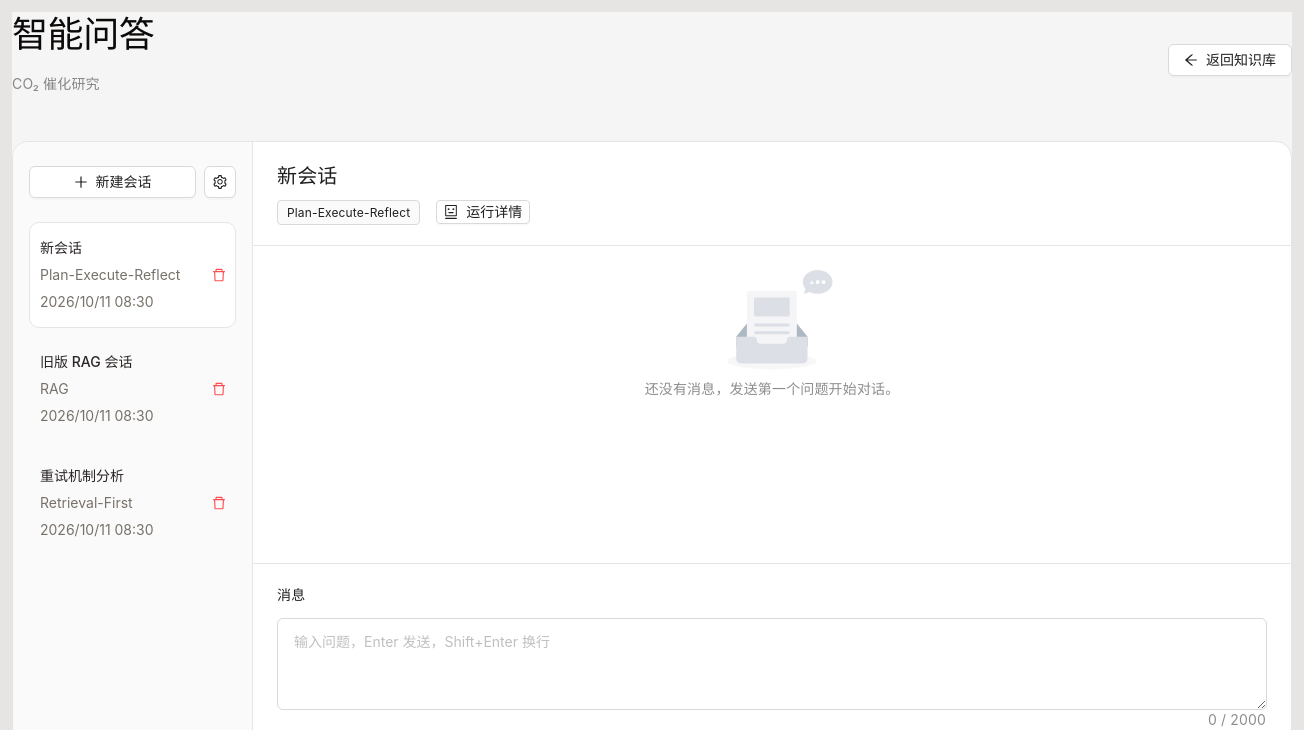
Test: ChatPage (MSW integration tests) › honors an initial CANCELLED execution response instead of assuming it is PENDING
Type "问题" into the text box labelled "消息" at (772, 664), box top-left (278, 619), bottom-right (1266, 709)
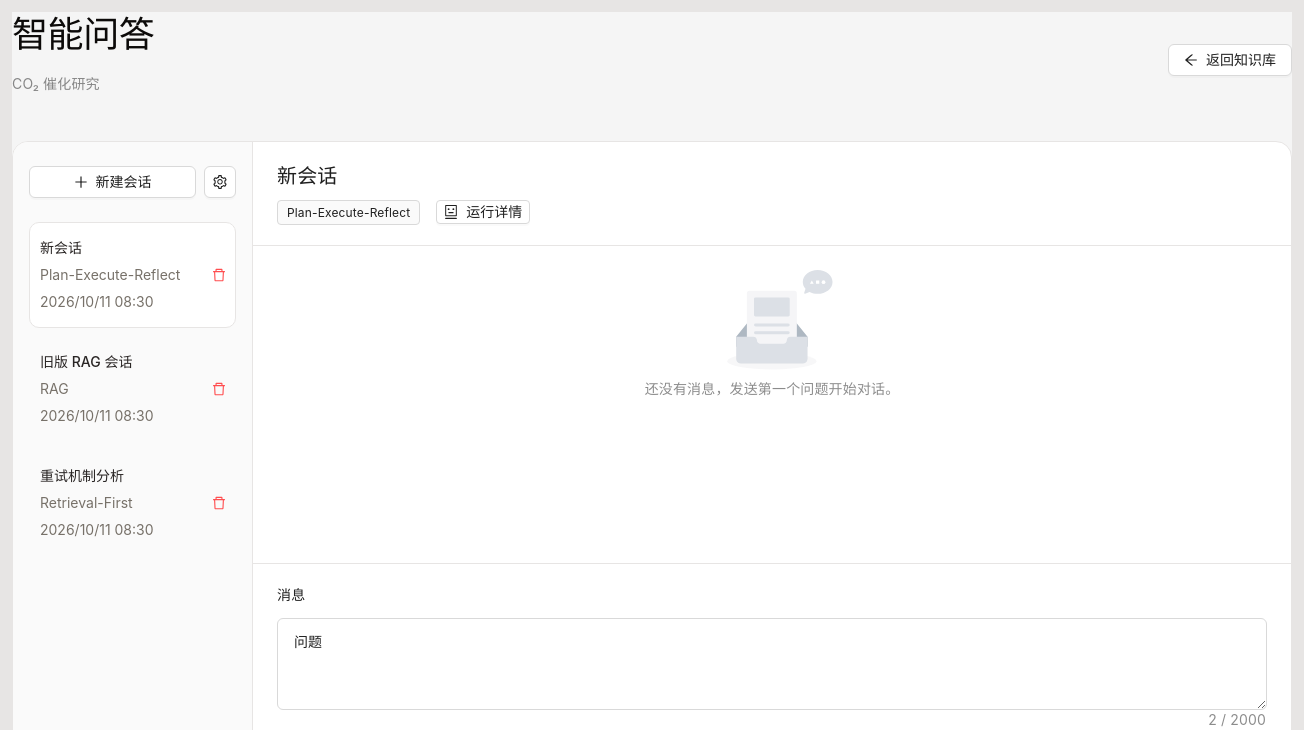
Press Enter in the text box labelled "消息", box top-left (278, 619), bottom-right (1266, 709)
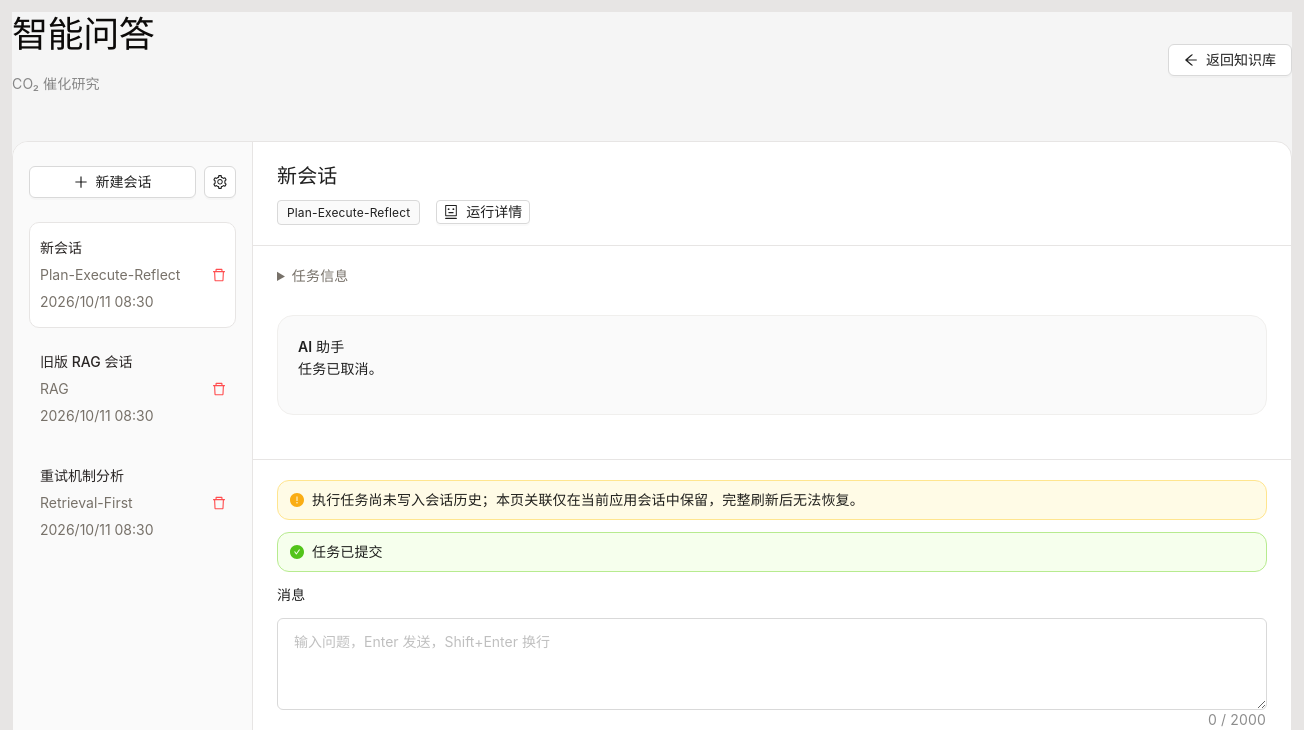
Expected: the element named "Agent 执行回复" is shown, top-left (277, 246), bottom-right (1267, 415)
Expected: the text "任务已取消。" is shown, top-left (298, 360), bottom-right (383, 377)
